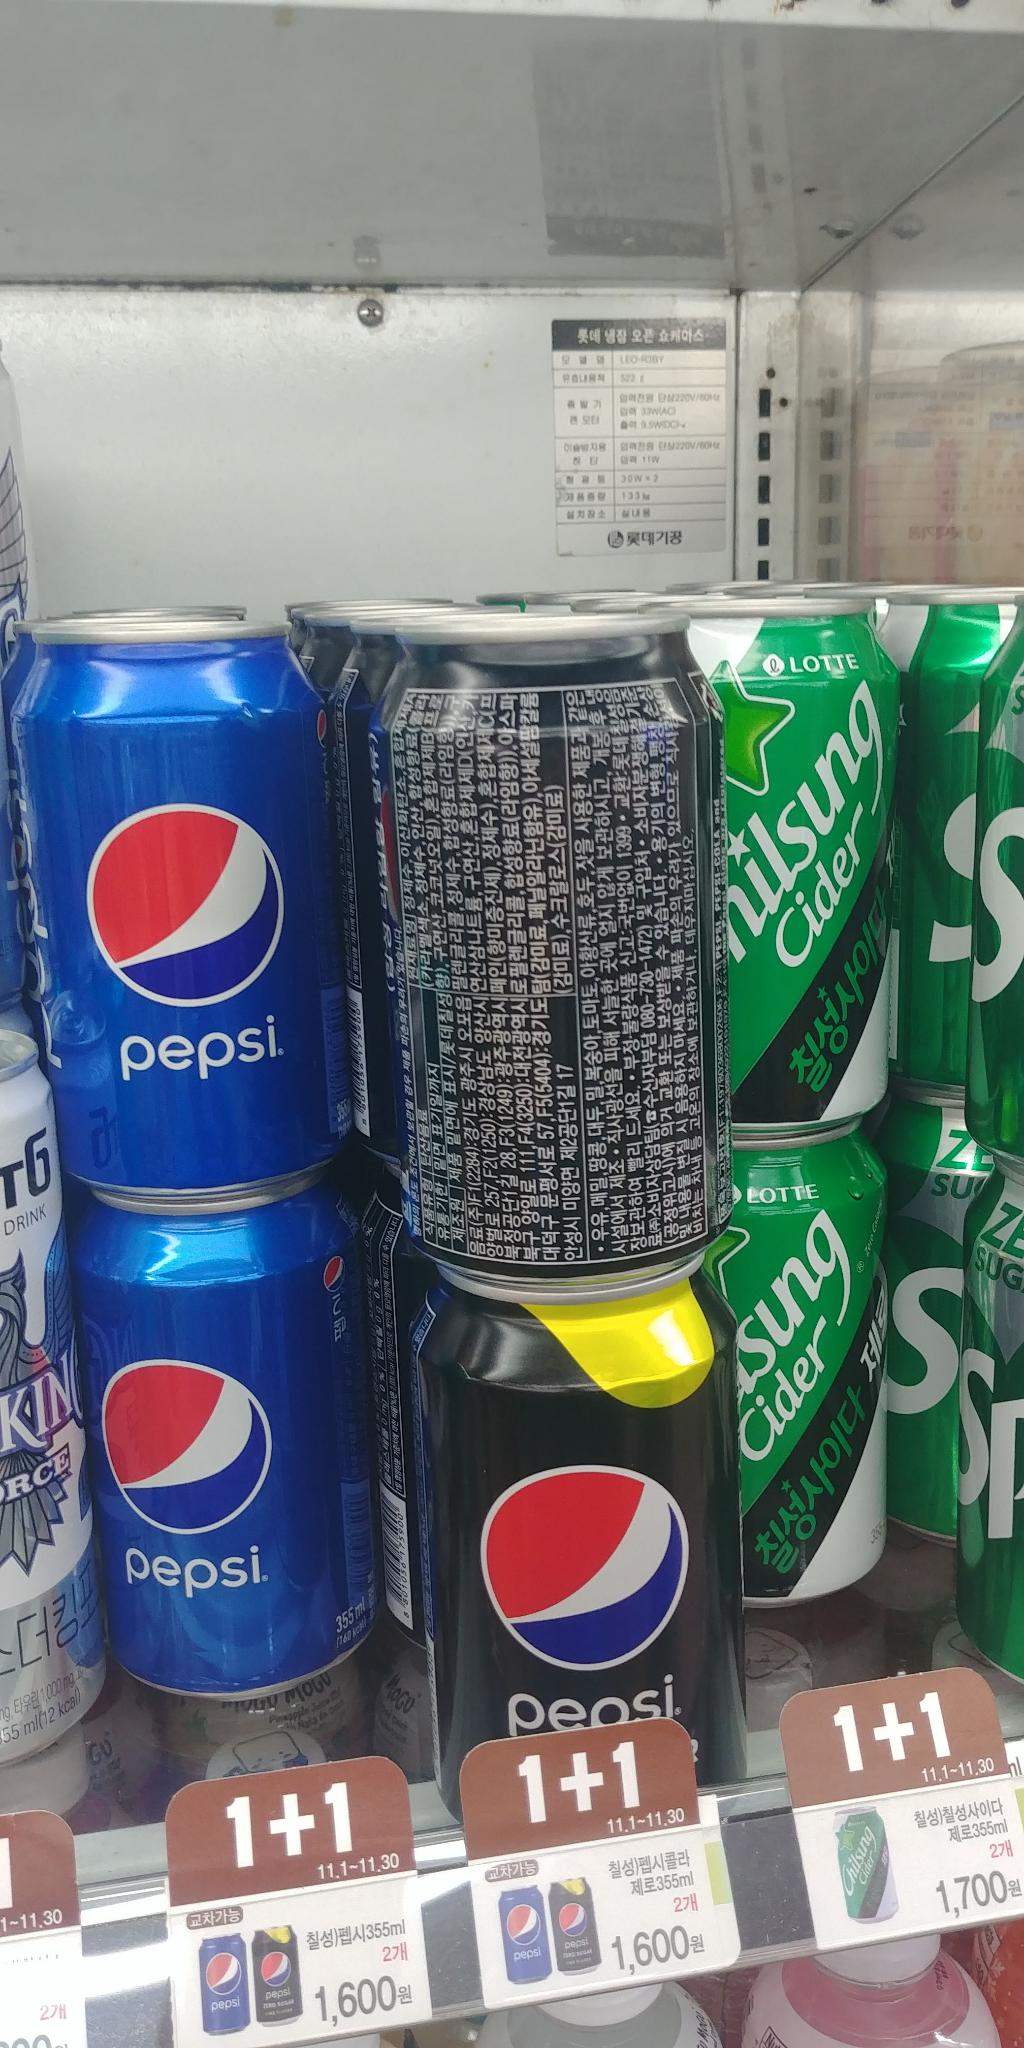pepsi_zero: (367, 609, 733, 1280), (380, 1292, 780, 1829)
